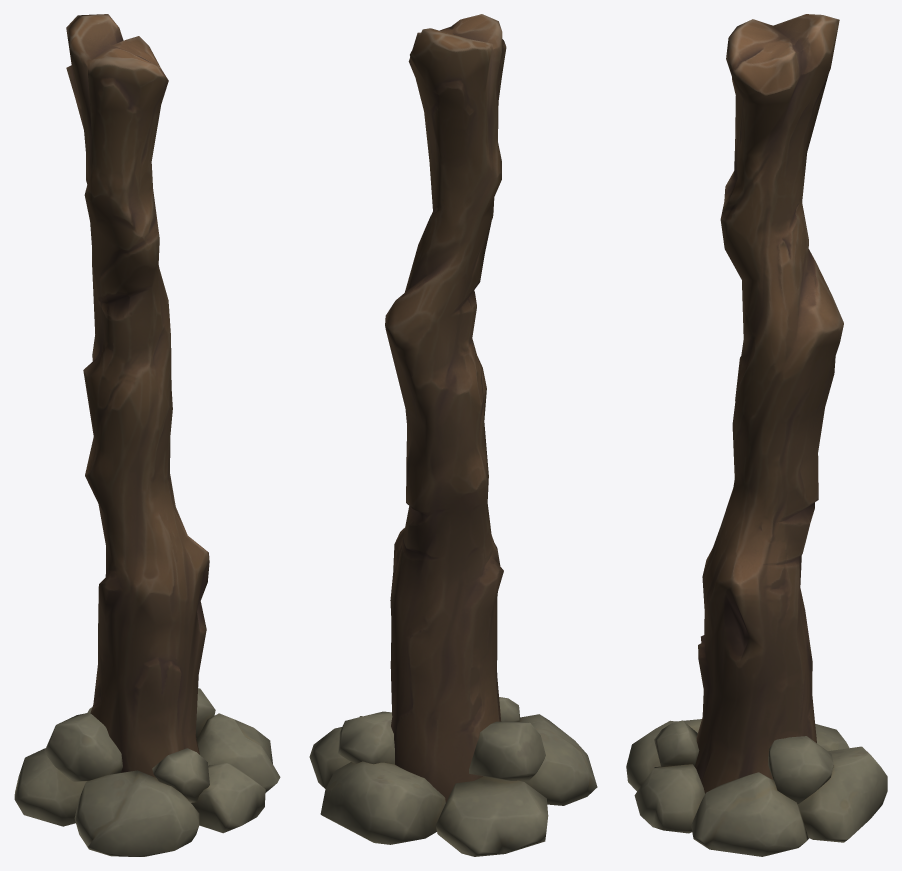
The model's file is SM_FW01_RoadsignPost_03.fbx.
The picture shows the model from 3 angles, left to right: view 1: azimuth 30°, elevation 25°; view 2: azimuth 150°, elevation 25°; view 3: azimuth 270°, elevation 25°; orthographic projection. The views are drawn at different scales.
Visible parts, largest first — view 1: SM_FW01_RoadsignPost_03_LOD0; view 2: SM_FW01_RoadsignPost_03_LOD0; view 3: SM_FW01_RoadsignPost_03_LOD0.
Boxes of the visible parts, x1=… form: SM_FW01_RoadsignPost_03_LOD0: x1=14, y1=14, x2=280, y2=856; SM_FW01_RoadsignPost_03_LOD0: x1=309, y1=14, x2=597, y2=856; SM_FW01_RoadsignPost_03_LOD0: x1=626, y1=14, x2=887, y2=856.
Size of what is drawn, in the model's own units: 0.6666 by 2.07 by 0.6271.
